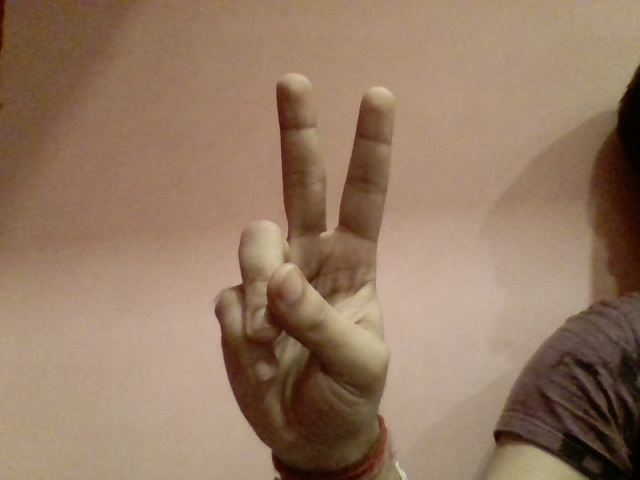v: (203, 69, 417, 458)
